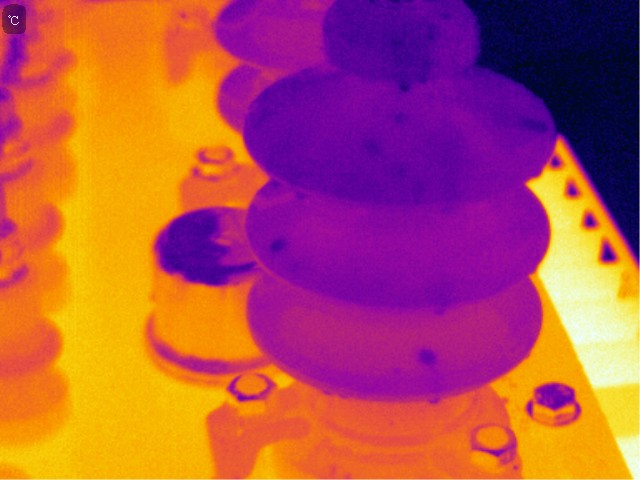Water: (520, 116, 550, 137), (358, 136, 388, 157), (416, 345, 441, 367), (266, 237, 292, 254), (254, 110, 273, 128), (390, 109, 409, 126), (415, 69, 431, 88), (397, 79, 415, 95), (524, 264, 539, 276), (425, 26, 436, 42), (528, 168, 545, 178), (433, 304, 446, 317), (425, 397, 444, 405), (390, 38, 405, 48), (269, 179, 280, 189)
